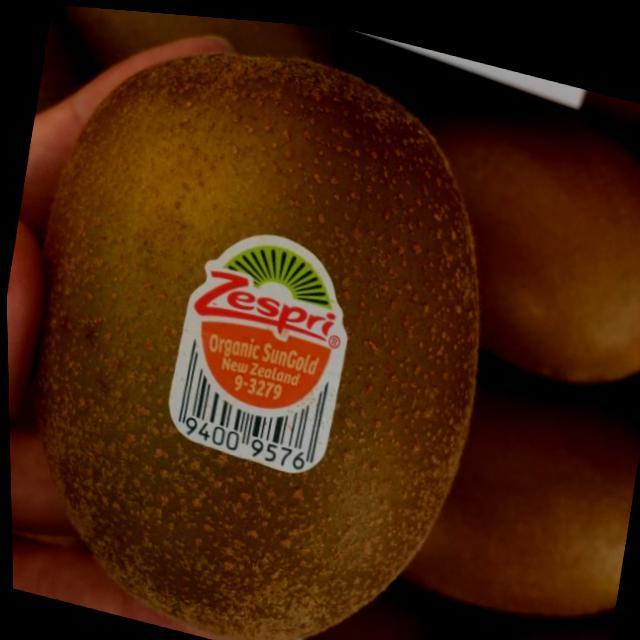kiwi: (1, 1, 530, 640)
